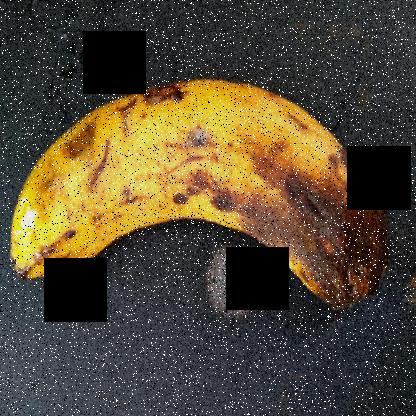rotten: (1, 52, 385, 334)
